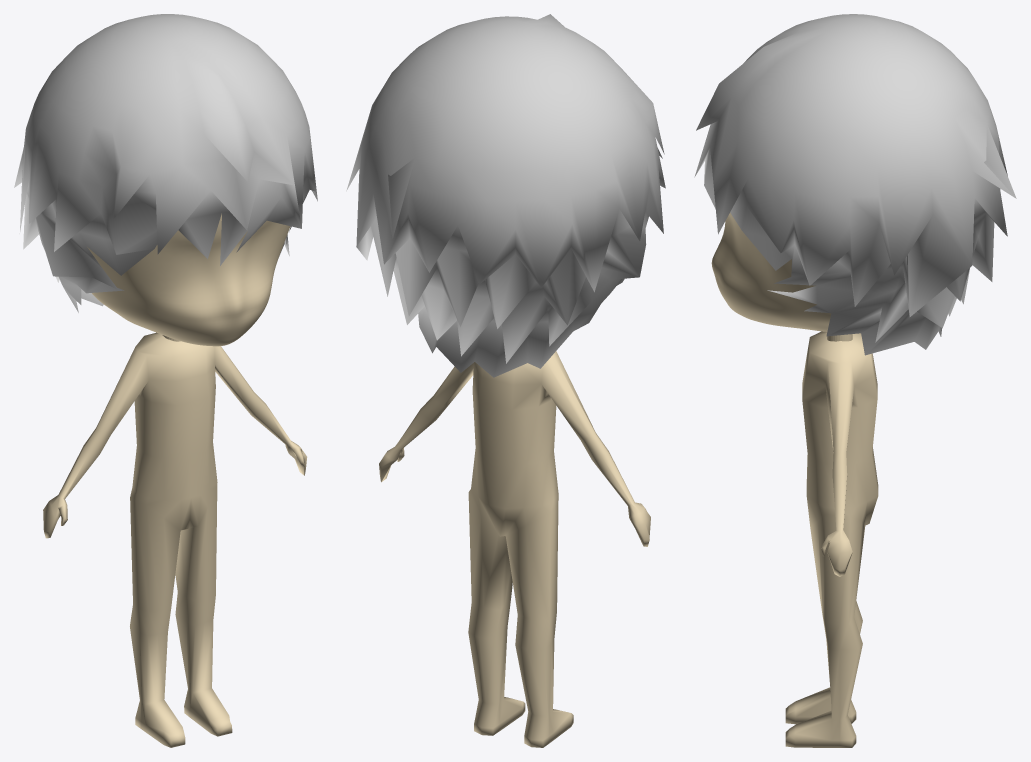
The model's file is AvatarDiamonds.fbx.
3 renders of one model, left to right at view 1: azimuth 30°, elevation 25°; view 2: azimuth 150°, elevation 25°; view 3: azimuth 270°, elevation 25°, orthographic. The views are drawn at different scales.
Parts seen in each view (by area): view 1: Sphere.006, Cube.003, Sphere.007; view 2: Sphere.006, Cube.003; view 3: Sphere.006, Cube.003, Sphere.007.
Part boxes in pixels (x1,y1,x2,y2): Sphere.006: [14, 14, 317, 312]; Cube.003: [43, 332, 307, 747]; Sphere.007: [87, 213, 290, 346]; Sphere.006: [346, 14, 665, 377]; Cube.003: [379, 351, 650, 747]; Sphere.006: [694, 14, 1016, 355]; Cube.003: [785, 331, 878, 747]; Sphere.007: [711, 212, 831, 331].
Size of the model in its own units: 330 by 801 by 333.
